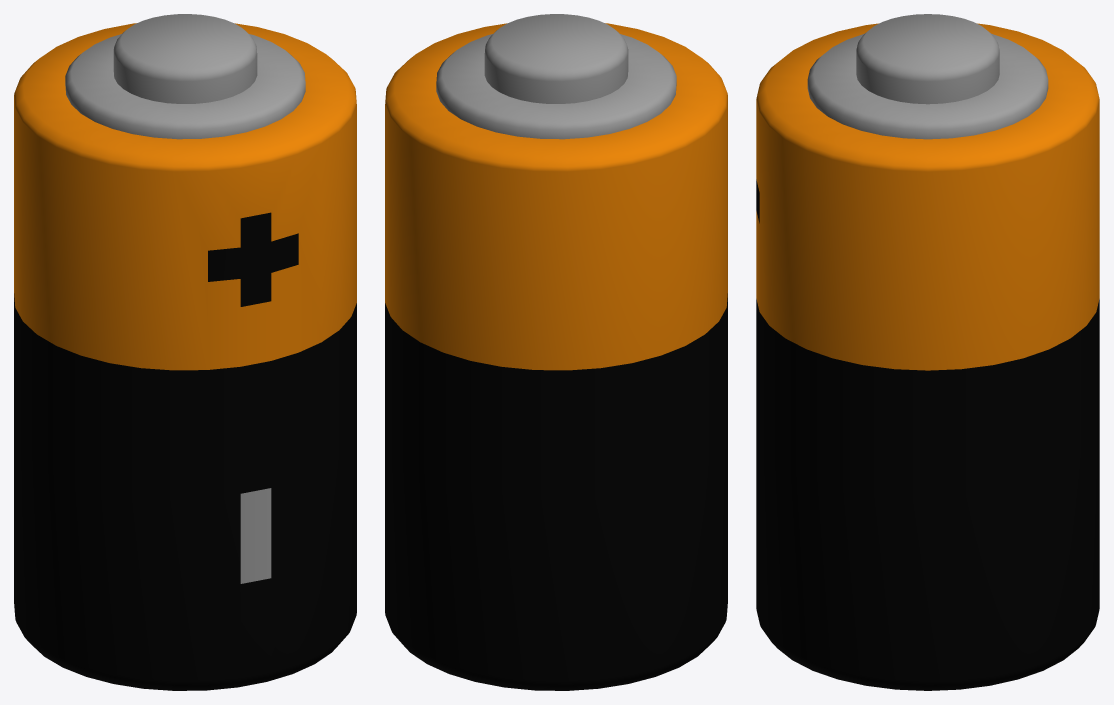
The model's file is D-Cell Battery.fbx.
3 views of the same model, side by side, from view 1: azimuth 30°, elevation 25°; view 2: azimuth 150°, elevation 25°; view 3: azimuth 270°, elevation 25° (orthographic).
Parts seen in each view (by area): view 1: Battery; view 2: Battery; view 3: Battery.
Part boxes in pixels (box(x1,y1,x2,y2)): Battery: box(14, 14, 356, 690); Battery: box(385, 14, 727, 690); Battery: box(756, 14, 1099, 690).
Size of the model in its own units: 5 by 9.36 by 5.
